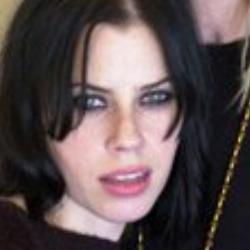face: (3, 3, 207, 233)
